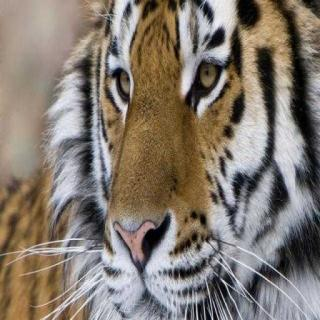Tiger: (22, 1, 320, 320)
